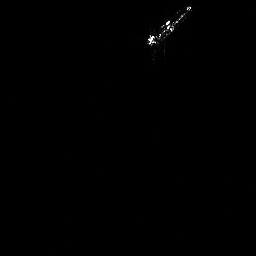ship: (142, 3, 195, 50)
